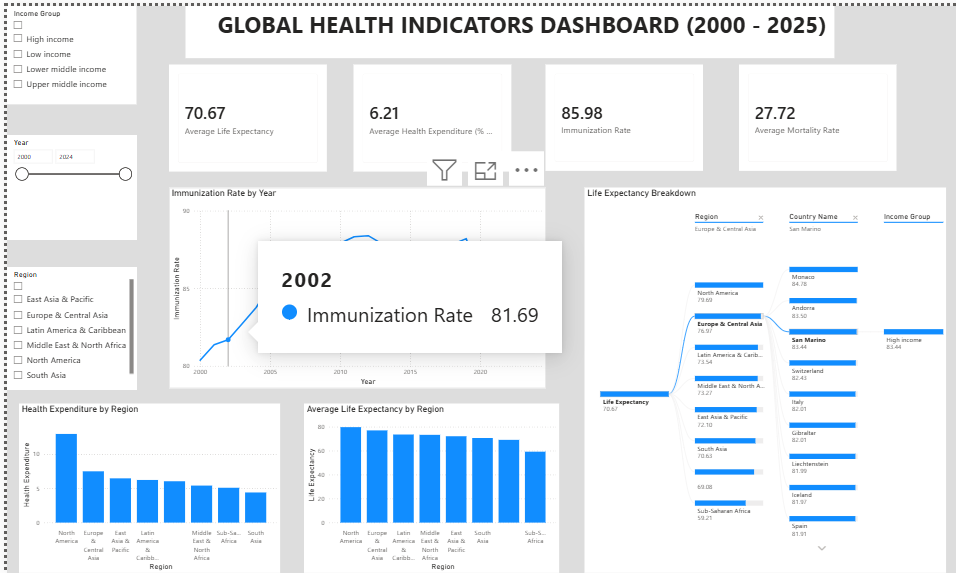

This screenshot's page, from the dashboard's own definition file:
{"tool":"powerbi","page":{"name":"Page 1","canvas":[1920,1080],"ordinal":0},"visuals":[{"type":"textbox","box":[340.2,0,1235.9,99.2],"z":0},{"type":"cardVisual","fields":{"Data":["WDICSV.Average Indicator Value"]},"box":[308.6,111.4,300.5,204.1],"z":1000},{"type":"cardVisual","fields":{"Data":["WDICSV.Average Indicator Value"]},"box":[660,111.4,300.5,204.1],"z":2000},{"type":"cardVisual","fields":{"Data":["WDICSV.Immunization Rate"]},"box":[1025.7,111.4,300,202.9],"z":3000},{"type":"cardVisual","fields":{"Data":["Avg(WDICSV.Indicator Value)"]},"box":[1394.3,111.4,300,202.9],"z":4000},{"type":"slicer","fields":{"Values":["WDICountry.Income Group"]},"box":[0,0,246.6,187.1],"z":4001},{"type":"slicer","fields":{"Values":["WDICountry.Region"]},"box":[0,497.1,246.6,232.4],"z":4002},{"type":"slicer","fields":{"Values":["WDICSV.Year"]},"box":[0,245.7,246.6,198.4],"z":4003},{"type":"decompositionTreeVisual","title":"Life Expectancy Breakdown","fields":{"Analyze":["WDICSV.Life Expectancy"],"ExplainBy":["WDICountry.Region","WDICSV.Country Name","WDICountry.Income Group"]},"box":[1100,345.7,688.6,734.3],"z":4011},{"type":"clusteredColumnChart","title":"Average Life Expectancy by Region","fields":{"Category":["WDICountry.Region"],"Y":["WDICSV.Life Expectancy"]},"box":[565.7,757.1,485.7,322.9],"z":4012},{"type":"clusteredColumnChart","fields":{"Category":["WDICountry.Region"],"Y":["WDICSV.Health Expenditure"]},"box":[22.9,757.1,497.1,322.9],"z":4014},{"type":"lineChart","title":"Immunization Rate by Year","fields":{"Category":["WDICSV.Year"],"Y":["WDICSV.Immunization Rate"]},"box":[308.6,345.7,717.1,382.9],"z":4015}]}

Visuals, with their boxes on the page's 1920x1080 design canvas (x1, y1, x2, y2). These are canvas units, not pixel positions in the 956x573 screenshot, which may show the page scaled, cropped or inside an application window:
textbox: l=340, t=0, r=1576, b=99
cardVisual - WDICSV.Average Indicator Value: l=309, t=111, r=609, b=316
cardVisual - WDICSV.Average Indicator Value: l=660, t=111, r=960, b=316
cardVisual - WDICSV.Immunization Rate: l=1026, t=111, r=1326, b=314
cardVisual - Avg(WDICSV.Indicator Value): l=1394, t=111, r=1694, b=314
slicer - WDICountry.Income Group: l=0, t=0, r=247, b=187
slicer - WDICountry.Region: l=0, t=497, r=247, b=730
slicer - WDICSV.Year: l=0, t=246, r=247, b=444
"Life Expectancy Breakdown" decompositionTreeVisual: l=1100, t=346, r=1789, b=1080
"Average Life Expectancy by Region" clusteredColumnChart: l=566, t=757, r=1051, b=1080
clusteredColumnChart - WDICountry.Region x WDICSV.Health Expenditure: l=23, t=757, r=520, b=1080
"Immunization Rate by Year" lineChart: l=309, t=346, r=1026, b=729
